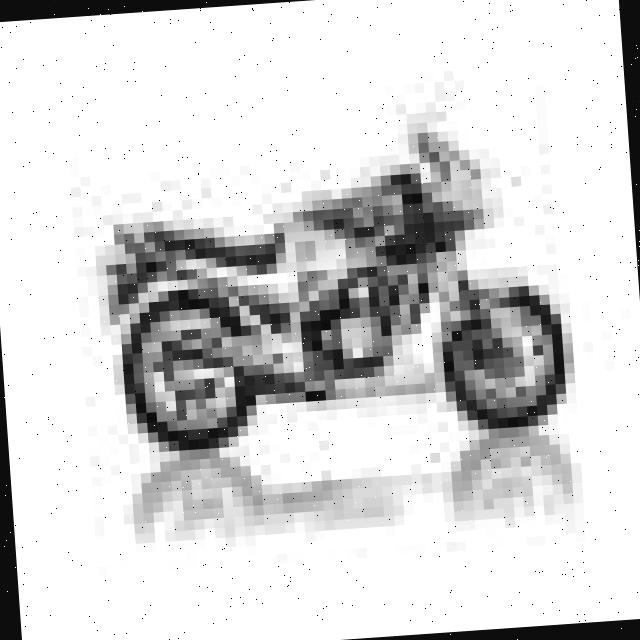mopeds: (69, 113, 614, 480)
